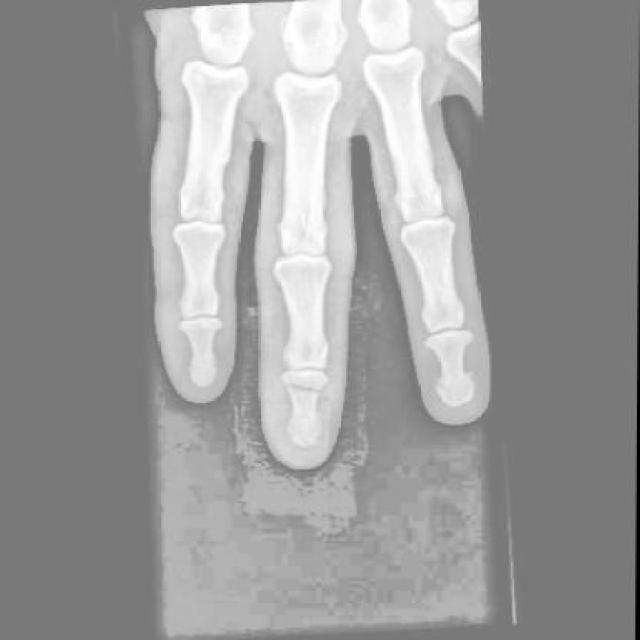Fracture: (286, 377, 331, 405)
